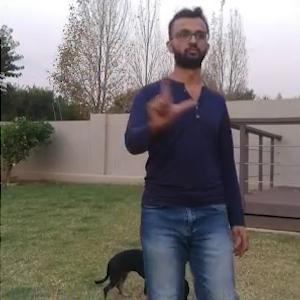land_hand: (142, 60, 193, 128)
